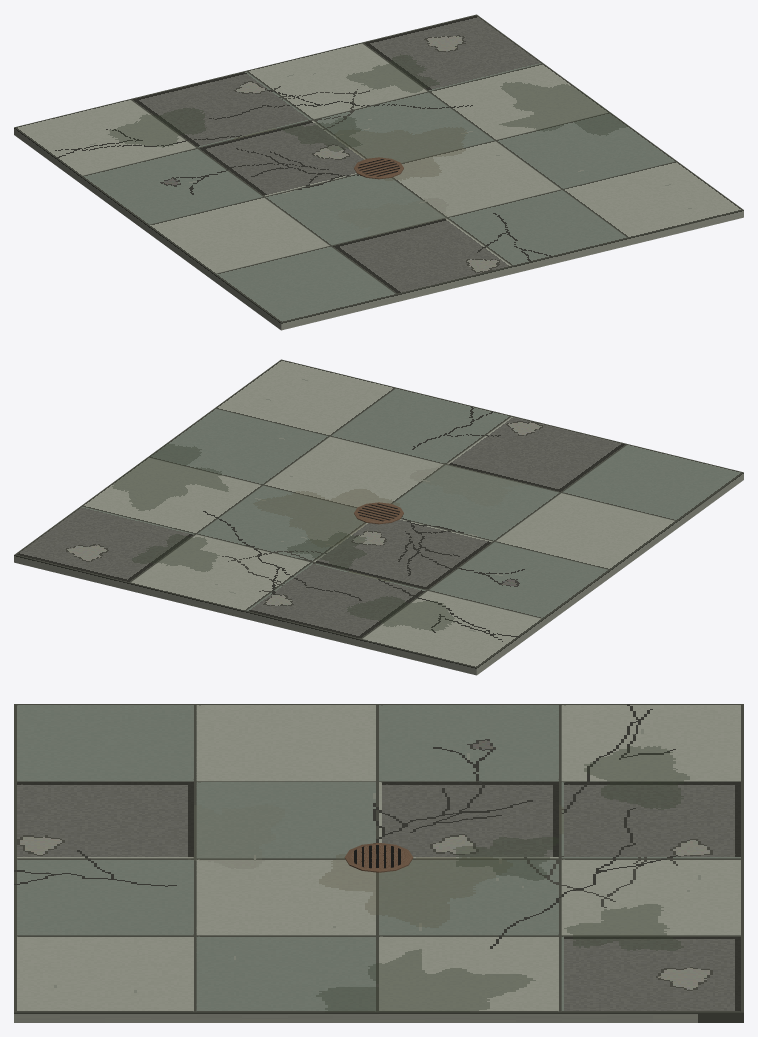
Rendered from floor_4b.glb.
3 views of the same model, one above another, from view 1: azimuth 30°, elevation 25°; view 2: azimuth 150°, elevation 25°; view 3: azimuth 270°, elevation 25° (orthographic). The views are drawn at different scales.
Parts seen in each view (by area): view 1: floor_tiles, floor_edge, floor_drain; view 2: floor_tiles, floor_edge, floor_drain; view 3: floor_tiles, floor_edge, floor_drain.
Boxes of the visible parts, x1,y1,x2,y2 form: floor_tiles: (14,14,743,322); floor_edge: (14,127,743,330); floor_drain: (354,157,403,179); floor_tiles: (14,359,743,667); floor_edge: (14,472,743,675); floor_drain: (354,502,403,524); floor_tiles: (14,704,743,1012); floor_edge: (14,1012,743,1022); floor_drain: (344,843,413,872).
Bounding box in the file's own units: 2 × 0.0356 × 2.
Materials: 1 (1 with a texture image).
